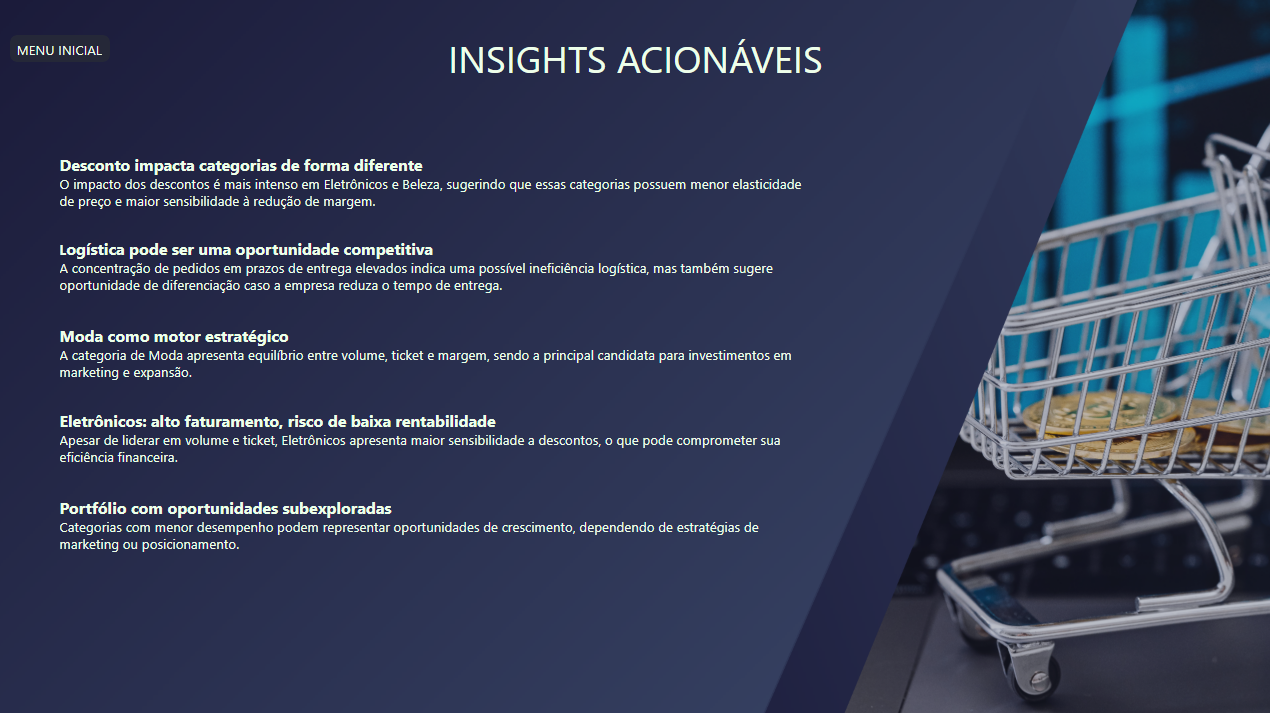

This screenshot's page, from the dashboard's own definition file:
{"tool":"powerbi","page":{"name":"Insights Acionáveis","canvas":[1280,720],"ordinal":5},"visuals":[{"type":"textbox","box":[24.3,156.6,793.7,66.1],"z":0},{"type":"textbox","box":[24.3,241.5,793.7,68.1],"z":1000},{"type":"textbox","box":[24.3,328.3,793.7,66.1],"z":2000},{"type":"textbox","box":[24.3,413.1,793.7,68.1],"z":3000},{"type":"textbox","box":[24.3,499.9,793.7,66.1],"z":4000},{"type":"textbox","box":[396.8,36,486.3,57.4],"z":5000},{"type":"actionButton","box":[14.2,38.1,100.2,26.6],"z":6000}]}

Visuals, with their boxes in screenshot pixels (x1, y1, x2, y2), scaled from the page's 1280x720 canvas onto the 1270x713 screenshot:
textbox: (x1=24, y1=155, x2=812, y2=221)
textbox: (x1=24, y1=239, x2=812, y2=307)
textbox: (x1=24, y1=325, x2=812, y2=391)
textbox: (x1=24, y1=409, x2=812, y2=477)
textbox: (x1=24, y1=495, x2=812, y2=560)
textbox: (x1=394, y1=36, x2=876, y2=92)
actionButton: (x1=14, y1=38, x2=114, y2=64)
